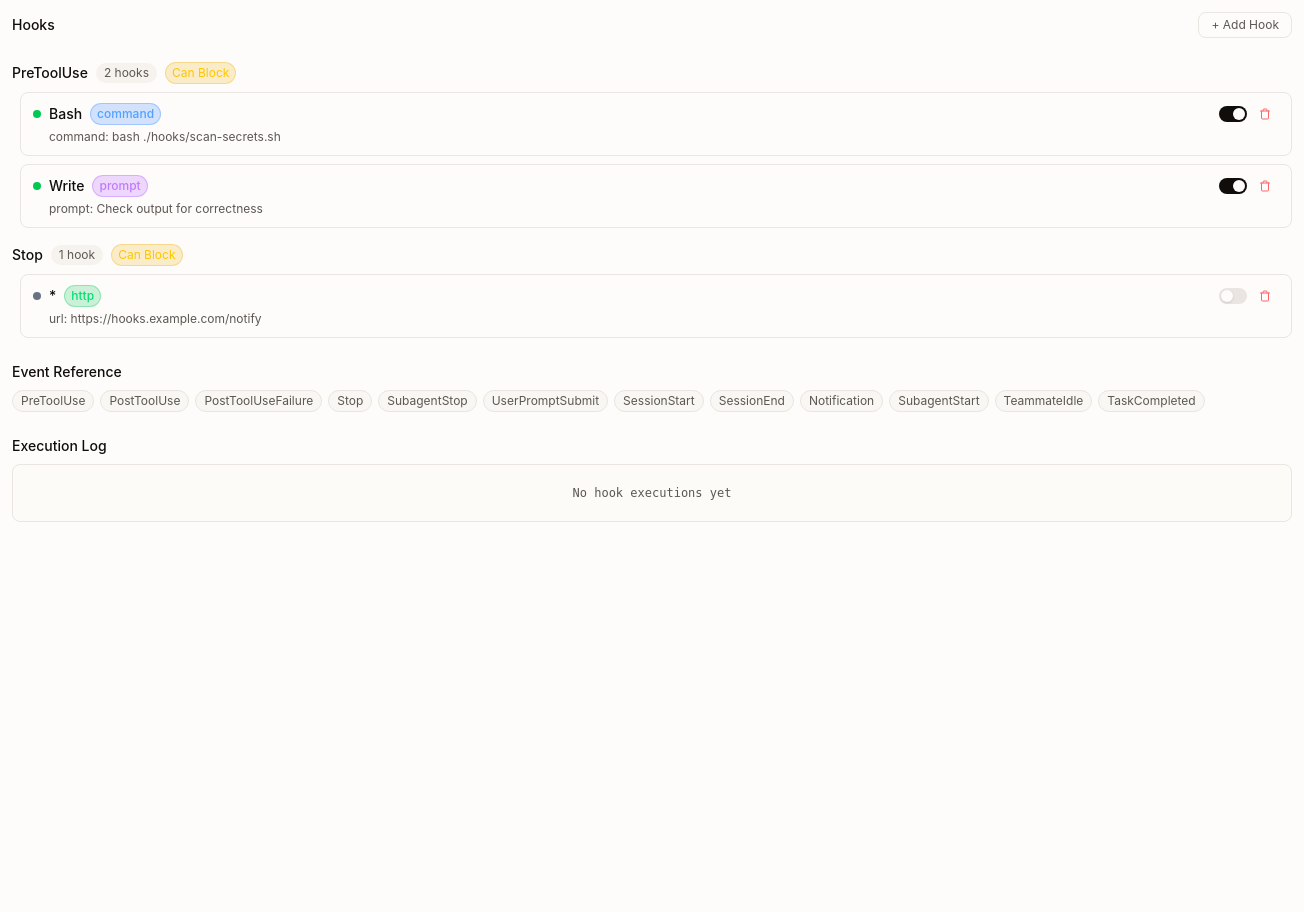
HooksPanel › cancel add form closes it
Expected: the element with test id "hooks-panel" is shown, [12,12,1292,522]
Click the button with test id "hooks-add-btn" at (1245, 25), box [1198,12,1292,38]
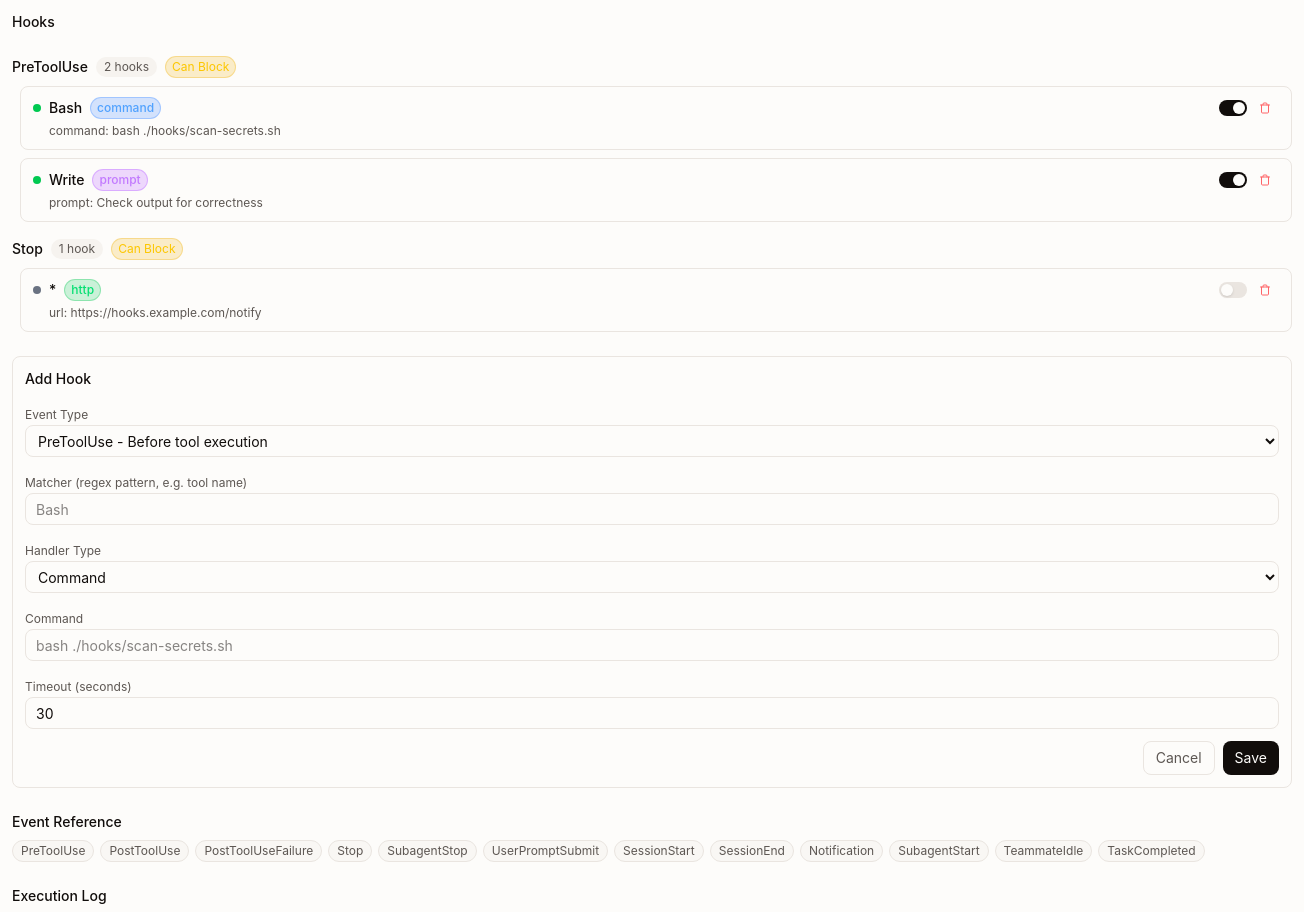
Now the element with test id "hooks-add-form" is shown, box [12,356,1292,788]
Click the button with test id "hooks-add-cancel-btn" at (1179, 758), box [1143,741,1215,775]
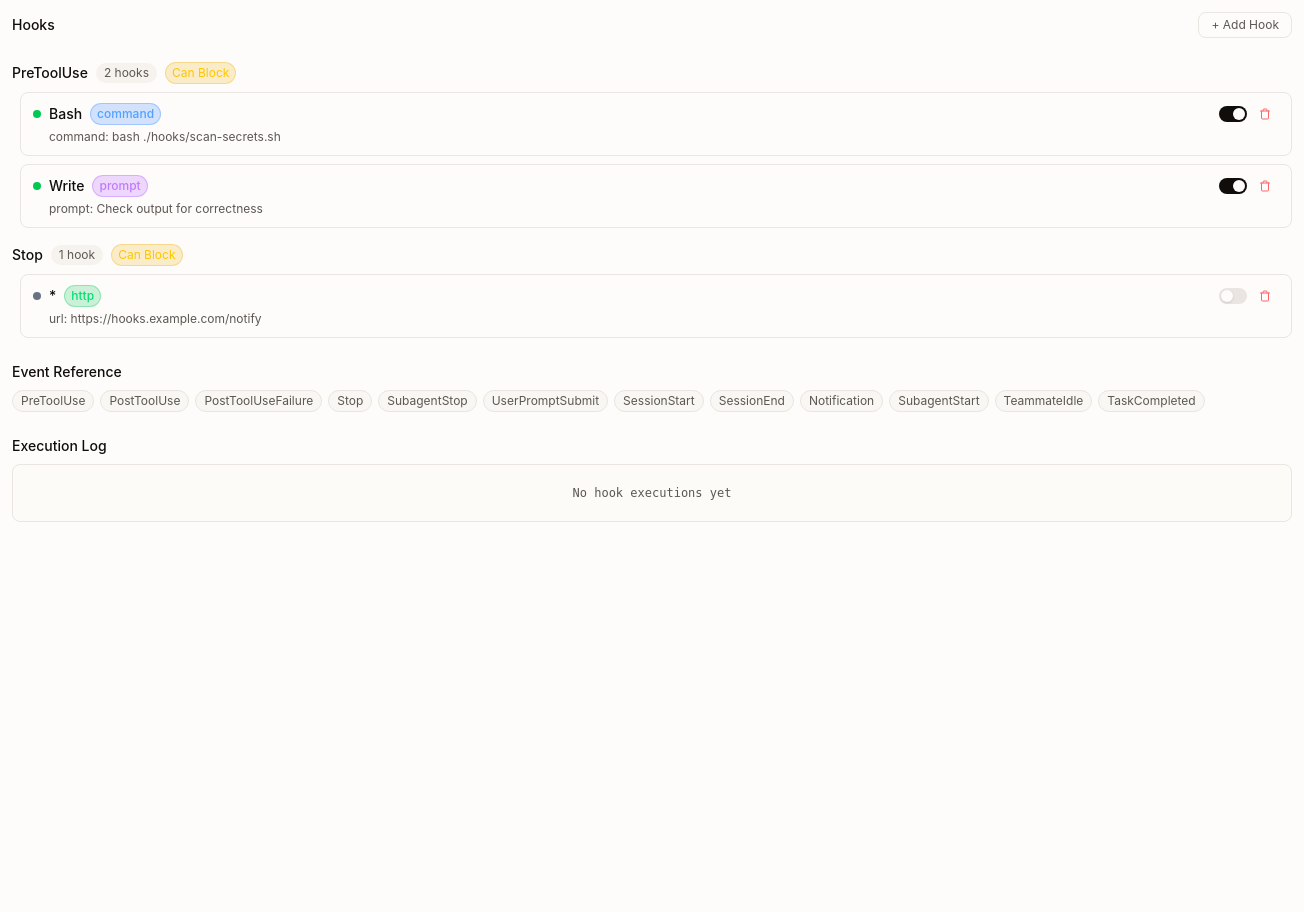
Now the element with test id "hooks-add-form" is gone
